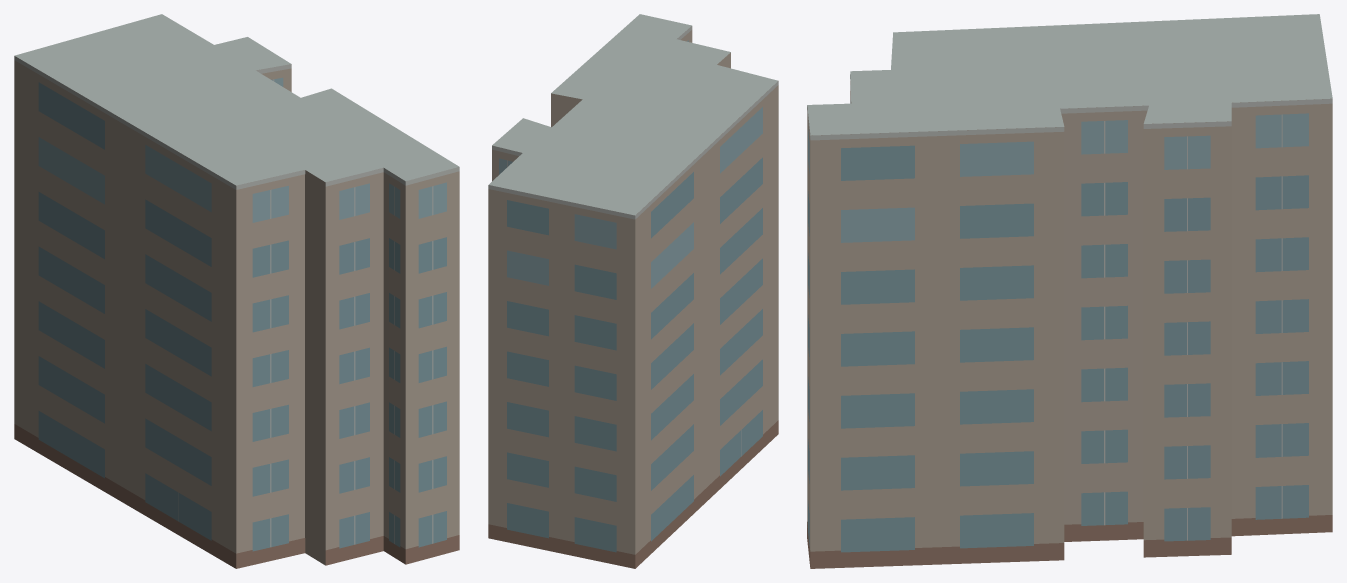
The model's file is survey-upis-32563695.glb.
The picture shows the model from 3 angles, left to right: view 1: azimuth 30°, elevation 25°; view 2: azimuth 150°, elevation 25°; view 3: azimuth 270°, elevation 25°; orthographic projection. The views are drawn at different scales.
Visible parts, largest first — view 1: survey-upis-32563695.tmp; view 2: survey-upis-32563695.tmp; view 3: survey-upis-32563695.tmp.
Part boxes in pixels (x1,y1,x2,y2): survey-upis-32563695.tmp: (14, 14, 459, 568); survey-upis-32563695.tmp: (488, 14, 778, 568); survey-upis-32563695.tmp: (807, 14, 1332, 568).
Size of the model in its own units: 12.75 by 21.2 by 23.31.
